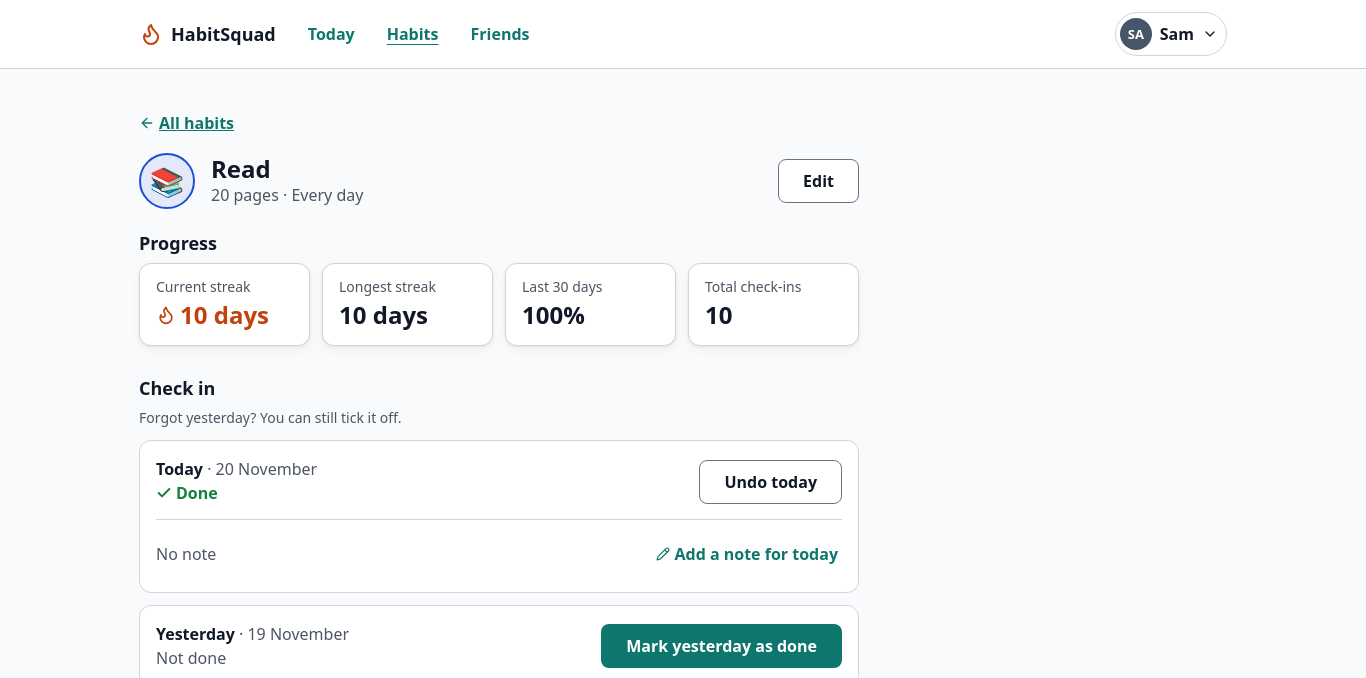
it: HabitDetailPage › undoes today's check-in
Expected: the heading "Read" is shown, [211,152,271,185]
Click the button "Undo today". click: (771, 482)
box: [700,460,842,504]
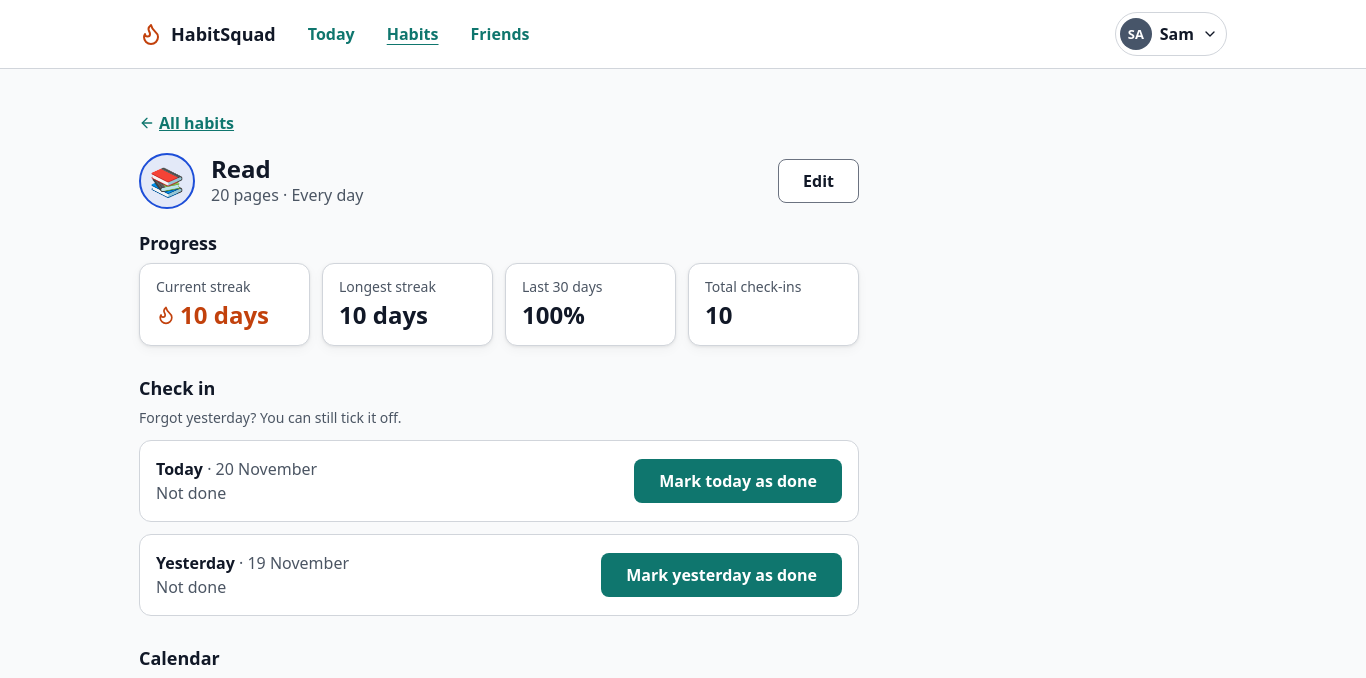
Expected: the button "Mark today as done" is shown, [634,459,842,503]
